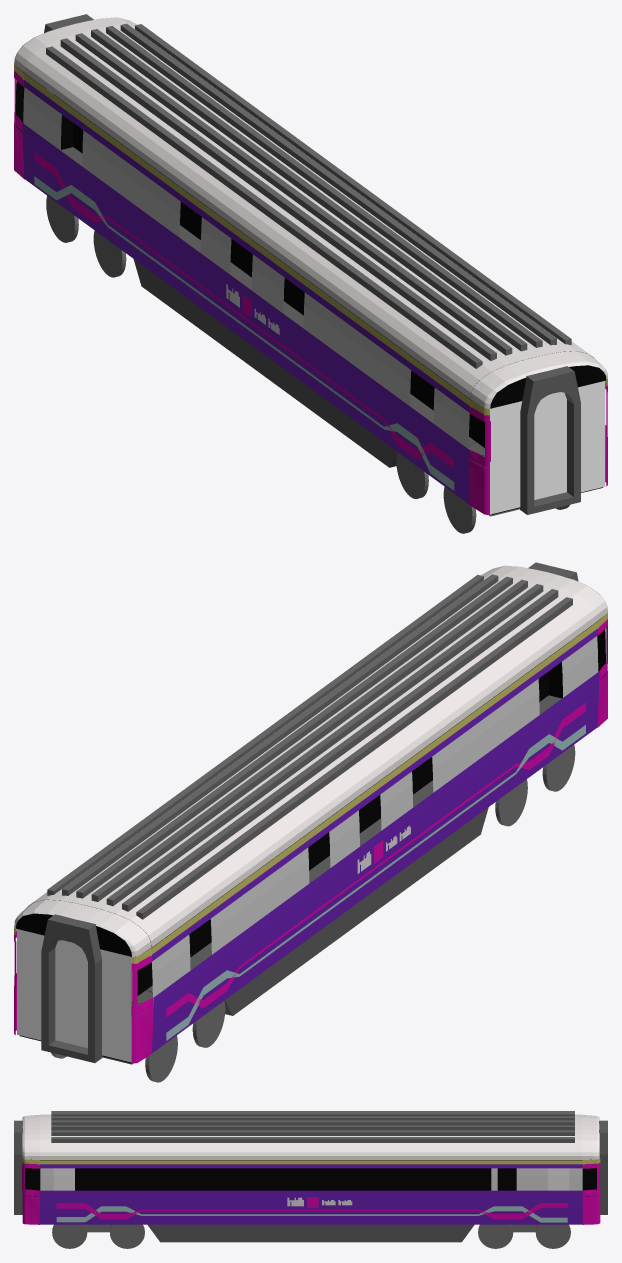
The model's file is br-mk3-sle-fgw3.dae.
3 views of the same model, one above another, from view 1: azimuth 30°, elevation 25°; view 2: azimuth 150°, elevation 25°; view 3: azimuth 270°, elevation 25° (orthographic). The views are drawn at different scales.
Parts seen in each view (by area): view 1: Suzanne_001, Plane_007, Plane_001, Cube_010, Cube, Cube_011, Cube_008, Cube_009, Cube_004, Cube_002, Tube_003, Plane_044 (+22 smaller); view 2: Suzanne_001, Plane_007, Plane_100, Cube, Cube_010, Cube_011, Cube_008, Cube_009, Cube_004, Cube_002, Tube_002, Plane_044 (+22 smaller); view 3: Plane_041, Plane_134, Suzanne_001, Cube, Plane_039, Cube_002, Cube_003, Cube_004, Cube_008, Plane_135, Plane_136, Cube_009 (+22 smaller).
Part boxes in pixels (bbox=[...]): Suzanne_001: bbox=[24, 24, 593, 398]; Plane_007: bbox=[23, 140, 470, 504]; Plane_001: bbox=[490, 381, 605, 514]; Cube_010: bbox=[60, 38, 496, 360]; Cube: bbox=[133, 259, 396, 467]; Cube_011: bbox=[46, 46, 482, 368]; Cube_008: bbox=[91, 29, 527, 351]; Cube_009: bbox=[75, 33, 512, 355]; Cube_004: bbox=[106, 26, 542, 347]; Cube_002: bbox=[120, 23, 556, 345]; Tube_003: bbox=[520, 366, 580, 514]; Plane_044: bbox=[22, 123, 468, 459]; Suzanne_001: bbox=[28, 573, 596, 947]; Plane_007: bbox=[151, 688, 598, 1053]; Plane_100: bbox=[17, 929, 132, 1062]; Cube: bbox=[224, 807, 488, 1015]; Cube_010: bbox=[122, 589, 558, 911]; Cube_011: bbox=[136, 597, 572, 919]; Cube_008: bbox=[91, 579, 527, 901]; Cube_009: bbox=[106, 584, 543, 906]; Cube_004: bbox=[76, 576, 512, 898]; Cube_002: bbox=[62, 574, 498, 895]; Tube_002: bbox=[41, 914, 102, 1062]; Plane_044: bbox=[153, 671, 599, 1007]; Plane_041: bbox=[25, 1159, 596, 1196]; Plane_134: bbox=[40, 1201, 582, 1224]; Suzanne_001: bbox=[40, 1114, 582, 1159]; Cube: bbox=[147, 1224, 474, 1242]; Plane_039: bbox=[39, 1190, 582, 1196]; Cube_002: bbox=[51, 1130, 574, 1135]; Cube_003: bbox=[51, 1137, 574, 1142]; Cube_004: bbox=[51, 1125, 574, 1130]; Cube_008: bbox=[51, 1120, 574, 1125]; Plane_135: bbox=[40, 1160, 582, 1164]; Plane_136: bbox=[40, 1164, 582, 1168]; Cube_009: bbox=[51, 1116, 574, 1120].
Bounding box in the file's own units: 2.08 × 13.39 × 2.81.
